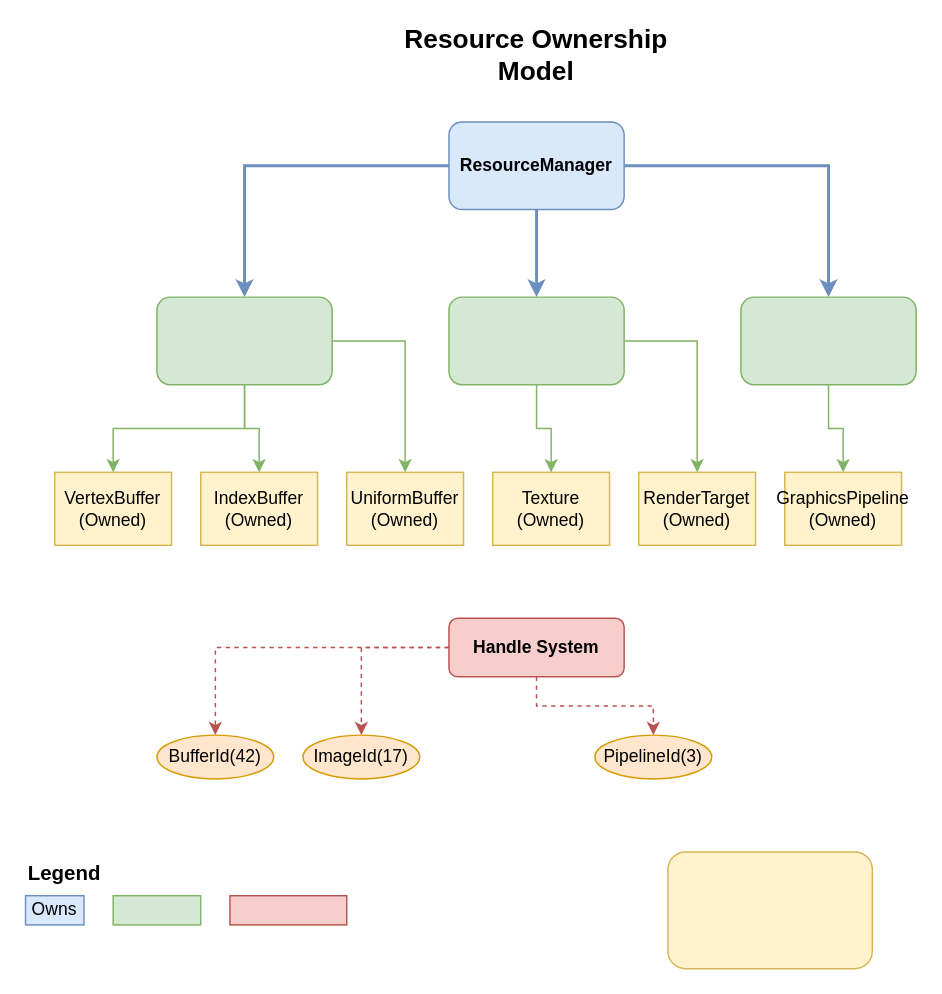
The diagram is 942 pixels wide and 994 high, and some of its shapes have lost their labels. Here are the shapes that lost their labels. From the top down, the centre of each, then its label:
point (243, 340): BufferManager
point (535, 340): ImageManager
point (827, 340): PipelineManager
point (156, 909): Manages
point (287, 909): Handle Maps To
point (769, 909): • Single Owner Rule • RAII Pattern • No Raw Handles • Handle-Based Access
